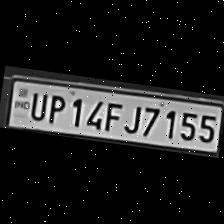1: (64, 94, 86, 128), (158, 106, 178, 140)
4: (82, 96, 106, 130)
5: (175, 107, 199, 141), (195, 110, 219, 144)
7: (138, 104, 160, 138)
F: (100, 98, 122, 132)
J: (120, 100, 143, 136)
P: (44, 90, 68, 126)
U: (26, 89, 48, 122)
